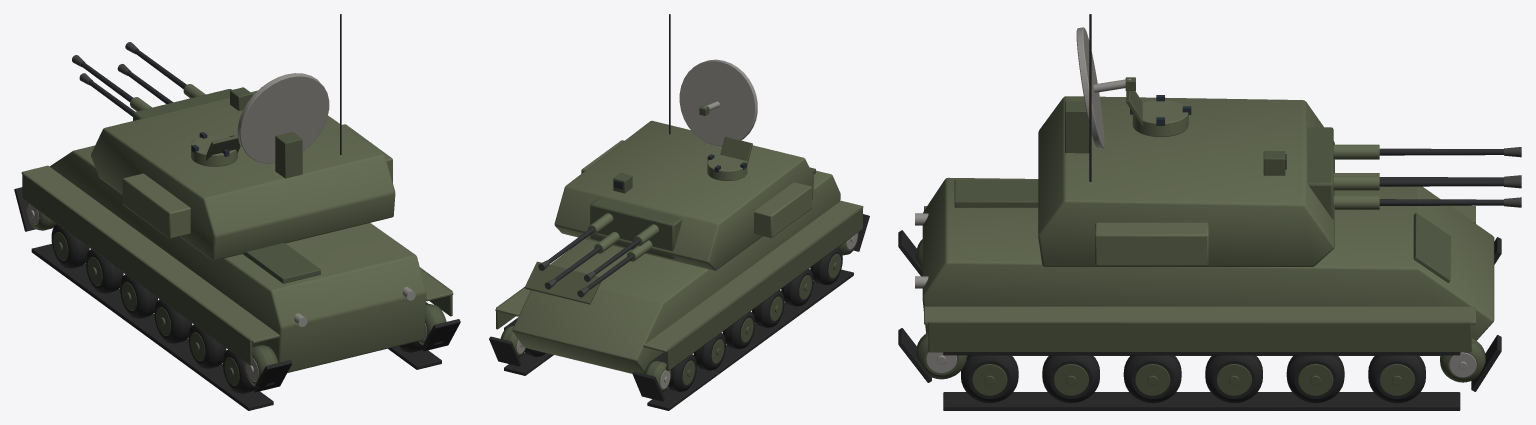
File: zsu234.glb
3 views of the same model, side by side, from view 1: azimuth 30°, elevation 25°; view 2: azimuth 150°, elevation 25°; view 3: azimuth 270°, elevation 25° (orthographic). The views are drawn at different scales.
Parts seen in each view (by area): view 1: prism.001, prism, Cube.001, Cube, Cylinder.053, Cube.002, Cube.014, Cube.013, Cube.023, Cube.025, Cylinder.051, Cylinder.015 (+12 smaller); view 2: prism.001, prism, Cylinder.053, Cube.001, Cube, Cube.025, Cube.002, Cube.014, Cube.012, Cylinder.051, Cylinder.003, Cylinder (+10 smaller); view 3: prism, prism.001, Cube.007, Cube.006, Cube.008, Cube.015, Cube.013, Cube.009, Cube.025, Cube.012, Cylinder.053, Cylinder.051 (+24 smaller).
Boxes of the visible parts, x1,y1,x2,y2 form: prism.001: (91,90,395,260); prism: (50,145,426,372); Cube.001: (22,173,252,365); Cube: (21,165,279,343); Cylinder.053: (237,73,329,163); Cube.002: (31,244,273,410); Cube.014: (122,173,190,238); Cube.013: (243,243,320,283); Cube.023: (275,132,302,178); Cube.025: (133,89,231,120); Cylinder.051: (191,135,237,166); Cylinder.015: (51,224,89,268); prism.001: (554,120,814,270); prism: (512,170,840,373); Cylinder.053: (679,59,757,146); Cube.001: (666,207,862,370); Cube: (643,200,863,352); Cube.025: (590,198,682,258); Cube.002: (647,269,853,410); Cube.014: (754,182,811,237); Cube.012: (524,261,600,304); Cylinder.051: (707,155,747,180); Cylinder.003: (781,269,813,306); Cylinder: (810,247,842,285); prism: (922,177,1494,355); prism.001: (1038,96,1334,266); Cube.007: (928,321,1471,352); Cube.006: (924,306,1475,324); Cube.008: (943,392,1460,410); Cube.015: (1095,222,1208,265); Cube.013: (954,180,1038,207); Cube.009: (943,352,1460,355); Cube.025: (1307,127,1333,219); Cube.012: (1413,213,1450,282); Cylinder.053: (1076,27,1104,148); Cylinder.051: (1132,100,1188,136).
Bounding box in the file's own units: 3.51 × 4.71 × 7.11.
